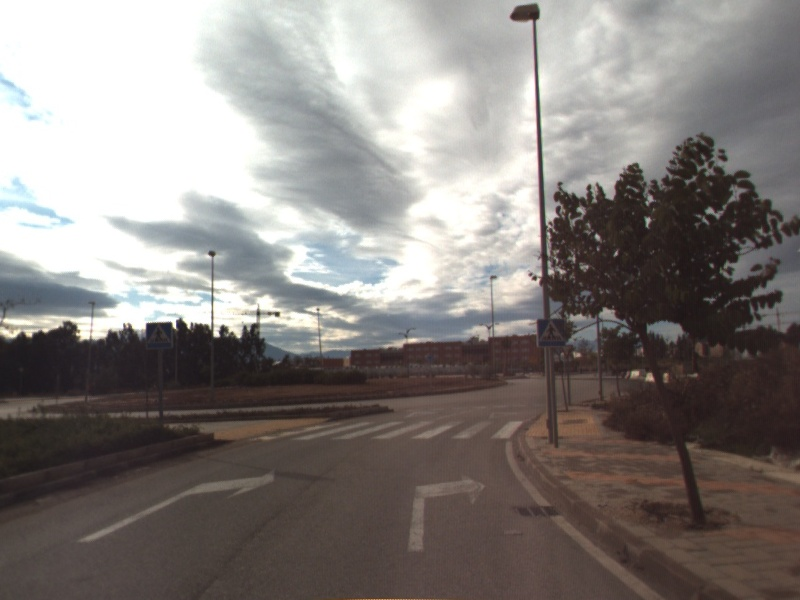RIGHT: (74, 464, 279, 544), (405, 472, 488, 555)
